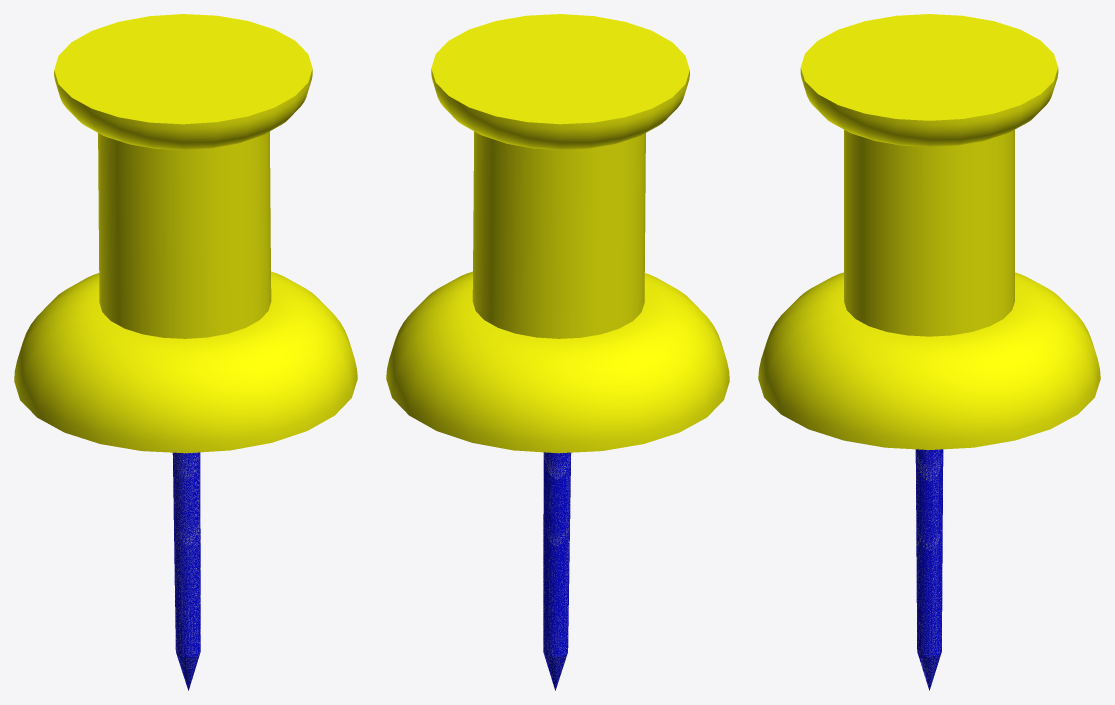
File: pushPinYellow.dae
3 renders of one model, left to right at view 1: azimuth 30°, elevation 25°; view 2: azimuth 150°, elevation 25°; view 3: azimuth 270°, elevation 25°, orthographic.
Parts seen in each view (by area): view 1: SketchUp (×2); view 2: SketchUp (×2); view 3: SketchUp (×2).
Boxes of the visible parts, box(x1,y1,x2,y2) form: SketchUp (×2): box(14, 14, 357, 690); SketchUp (×2): box(386, 14, 729, 690); SketchUp (×2): box(758, 14, 1100, 690).
Bounding box in the file's own units: 24 × 24 × 48.09.
